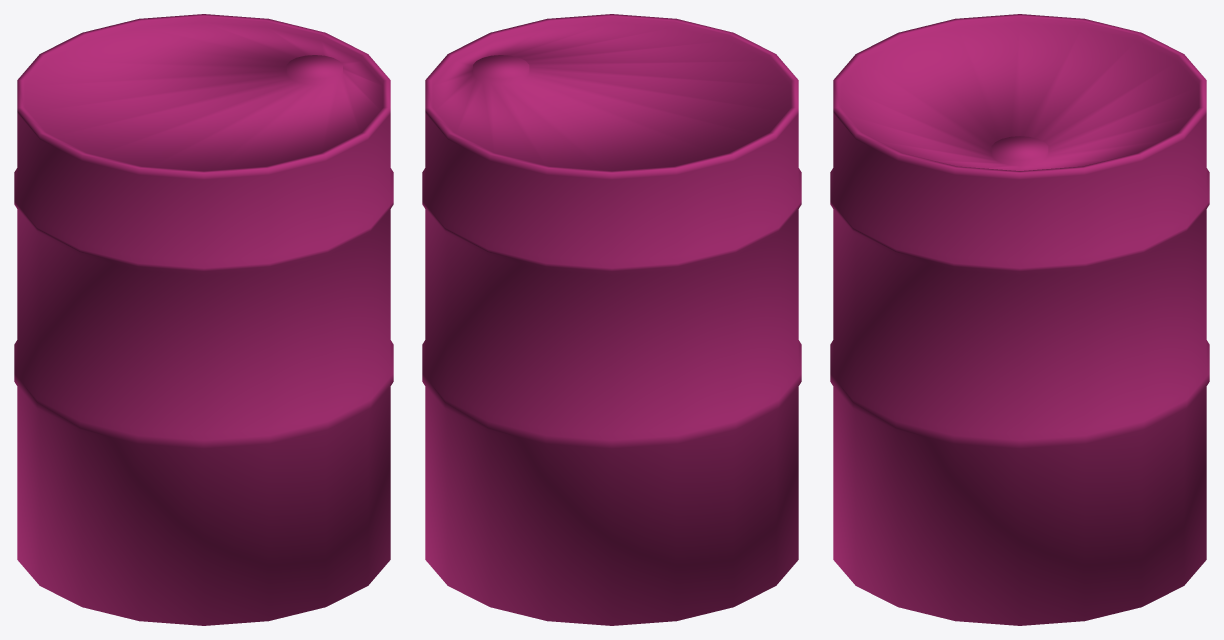
Rendered from Barrel.fbx.
3 views of the same model, side by side, from view 1: azimuth 30°, elevation 25°; view 2: azimuth 150°, elevation 25°; view 3: azimuth 270°, elevation 25° (orthographic).
Visible parts, largest first — view 1: Barrel:Cylinder001; view 2: Barrel:Cylinder001; view 3: Barrel:Cylinder001.
Part boxes in pixels (<box>): Barrel:Cylinder001: <box>14,14,393,625</box>; Barrel:Cylinder001: <box>422,14,801,625</box>; Barrel:Cylinder001: <box>830,14,1209,625</box>.
Bounding box in the file's own units: 7.83 × 10.12 × 7.71.
